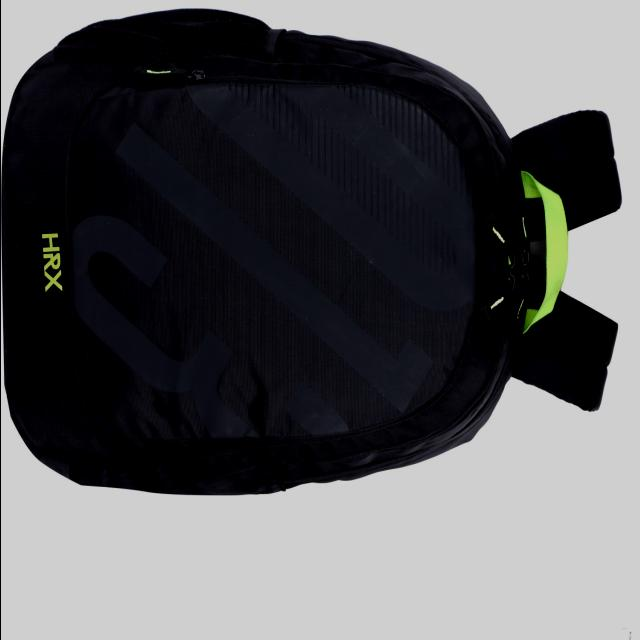backpack: (3, 8, 622, 497)
